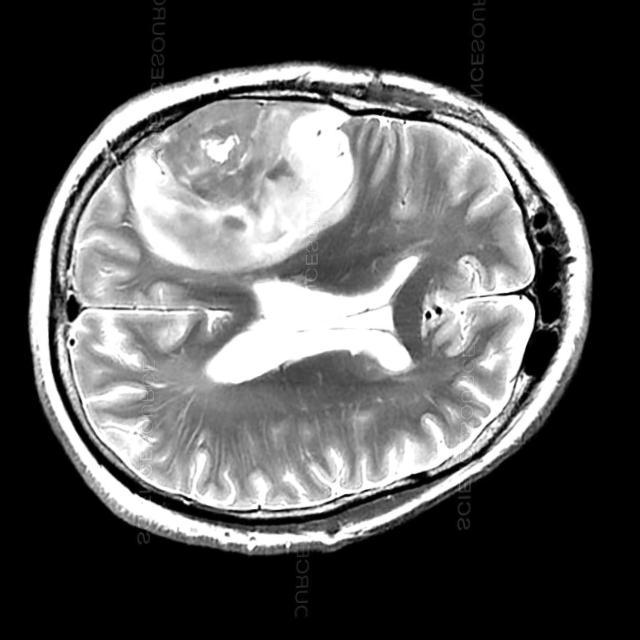Tumor: (130, 100, 352, 273)
